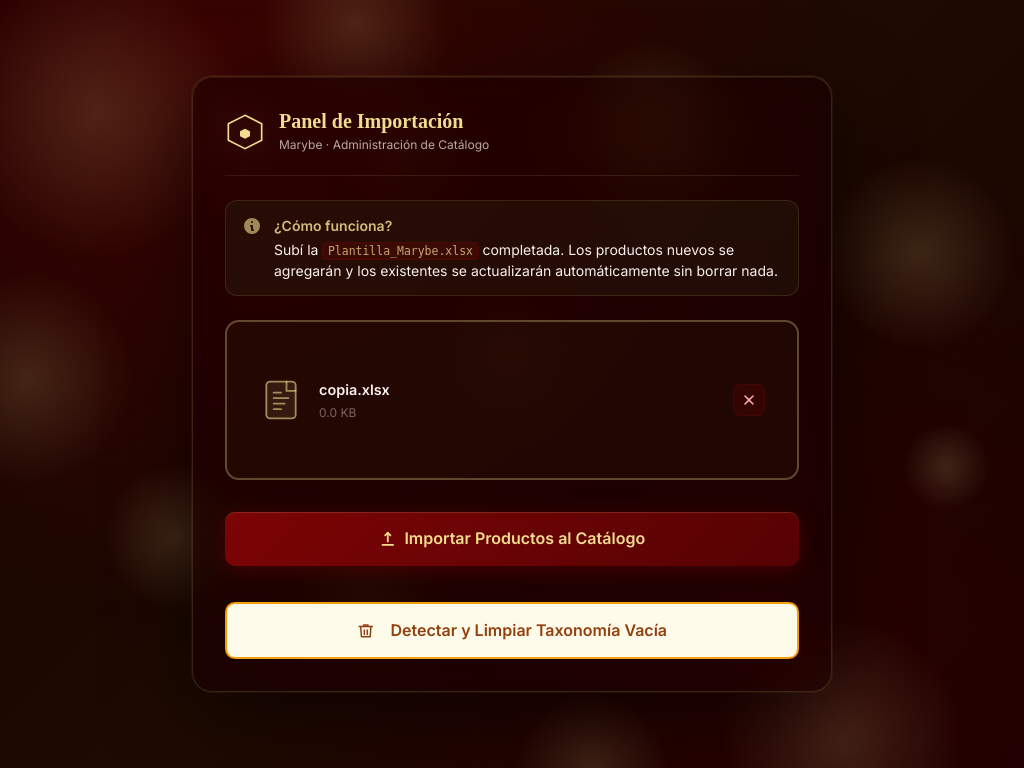
una importación completa conserva el mensaje de éxito
Earlier steps of the test are not shown.
Click the button "Importar Productos al Catálogo": [512, 539] box [225,512,799,566]
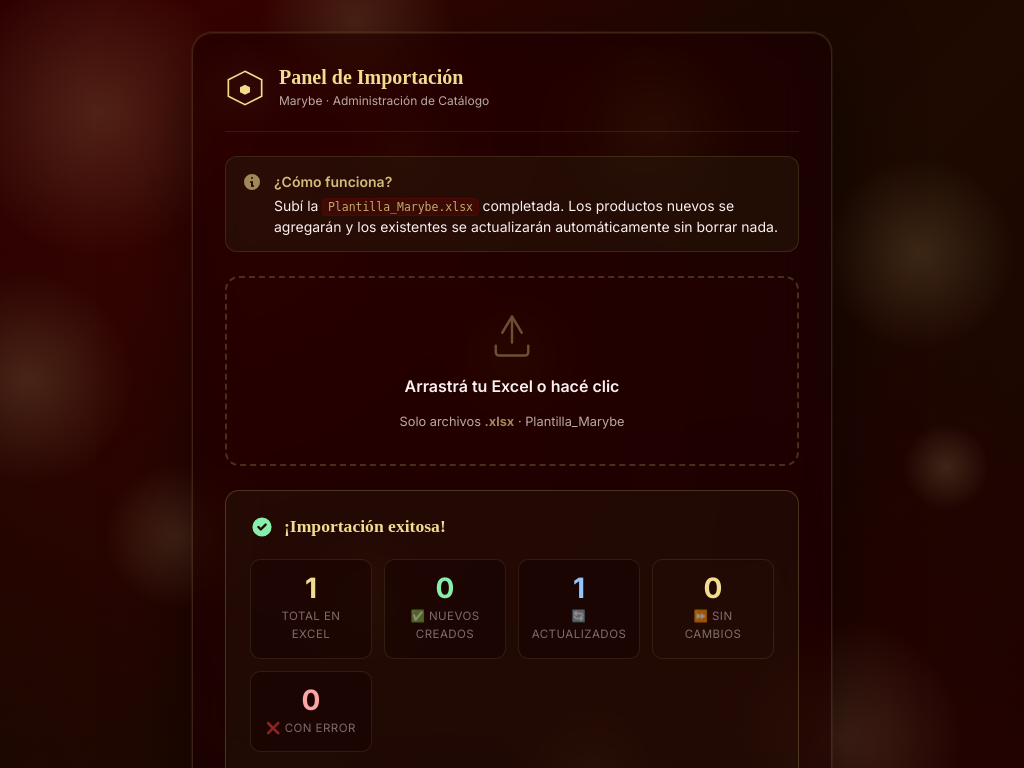
Expected: the heading "¡Importación exitosa!" is shown, [284,516,446,538]
